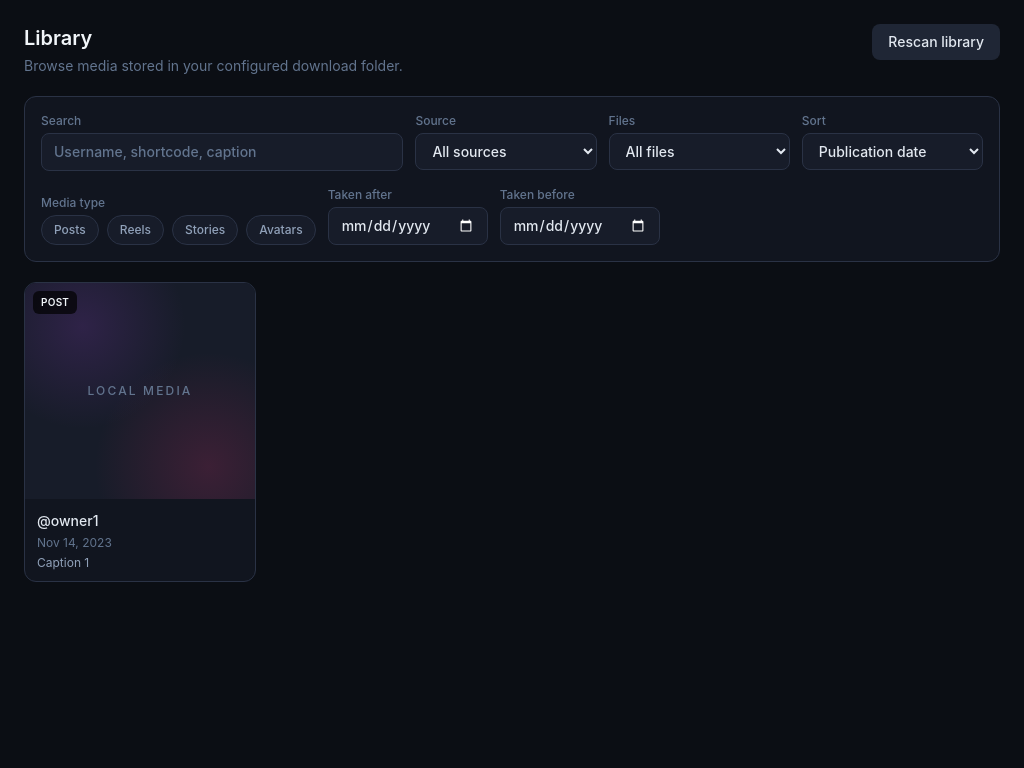
Test: Library browsing › surfaces file action failures inline
Click the button "Local media post @owner1 Nov 14, 2023 Caption 1".
click(140, 432)  # box [24,282,256,582]
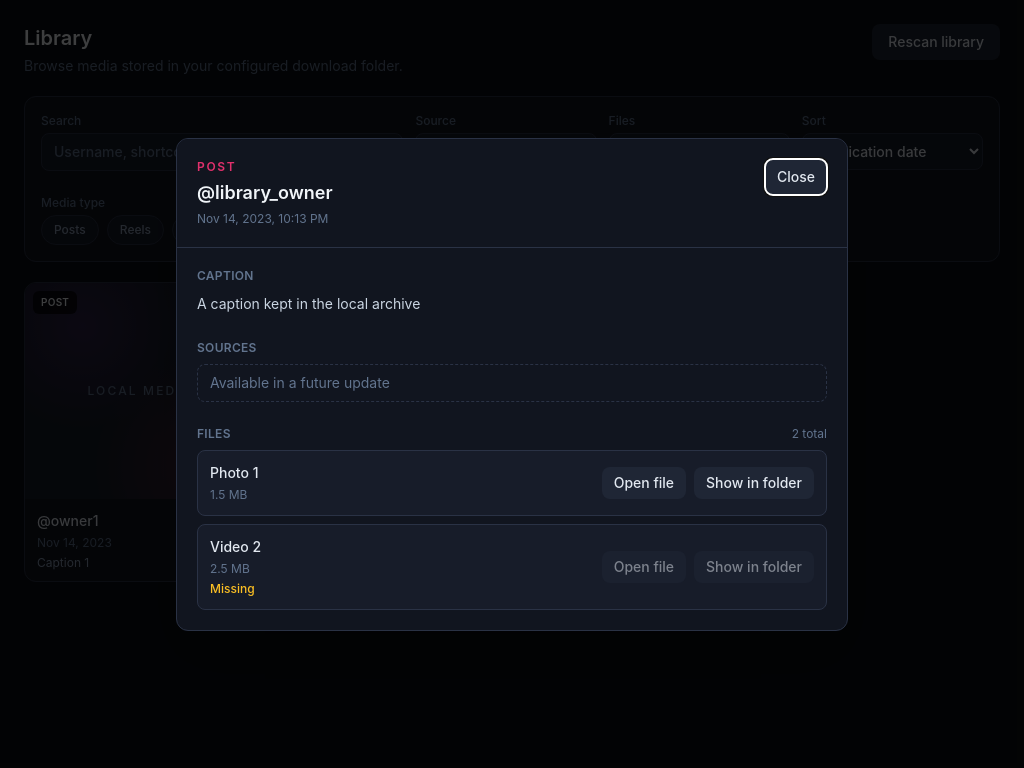
Click the button "Open file" in the row of "photo 1".
click(644, 482)  # box [602,466,686,498]
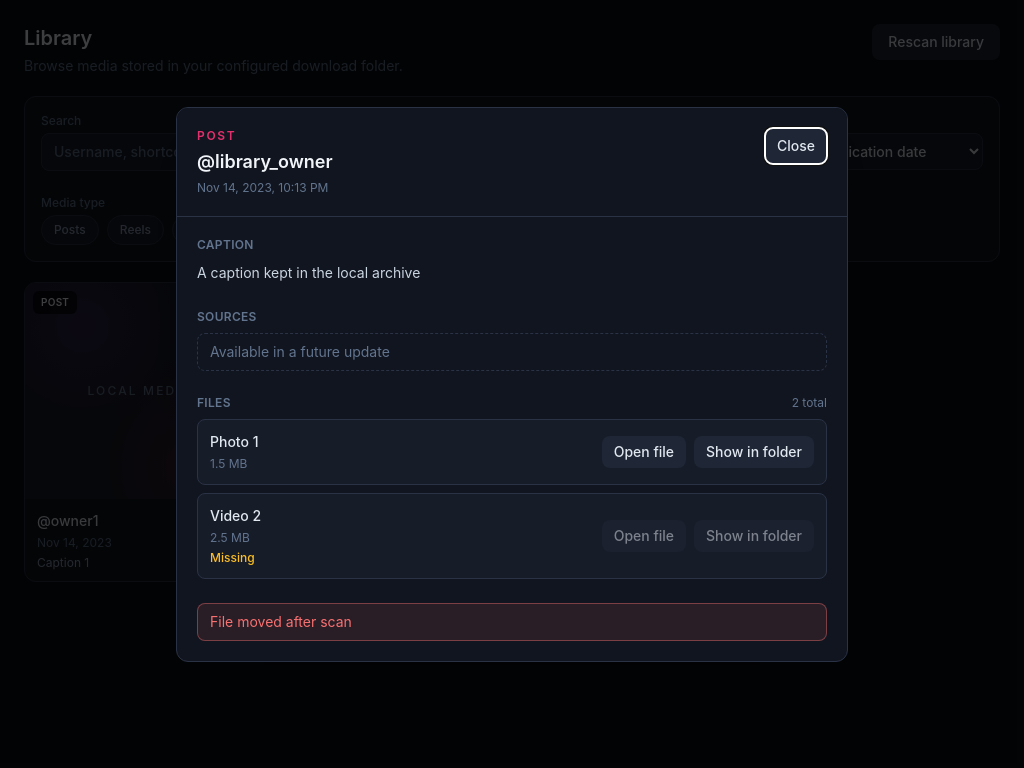
Now the message "File moved after scan" is shown, box [197,602,827,640]
